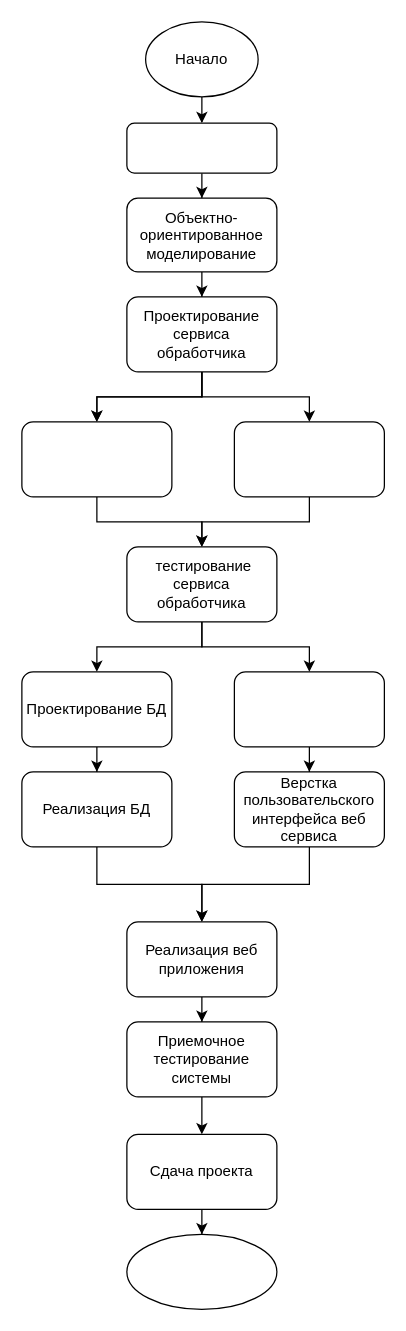
The diagram is 406 pixels wide and 1331 high, and some of its shapes have lost their labels. The box of each missing label's shape, as (x1, y1, x2, y2) in pixels:
Конец: (126, 1233, 277, 1309)
Проектирование пользовательского интерфейса веб сервиса: (233, 671, 384, 747)
Разработка ТЗ: (126, 122, 277, 173)
Реализация алгоритма обработки данных: (233, 421, 384, 497)
Реализация загрузчика данных: (21, 421, 172, 497)
